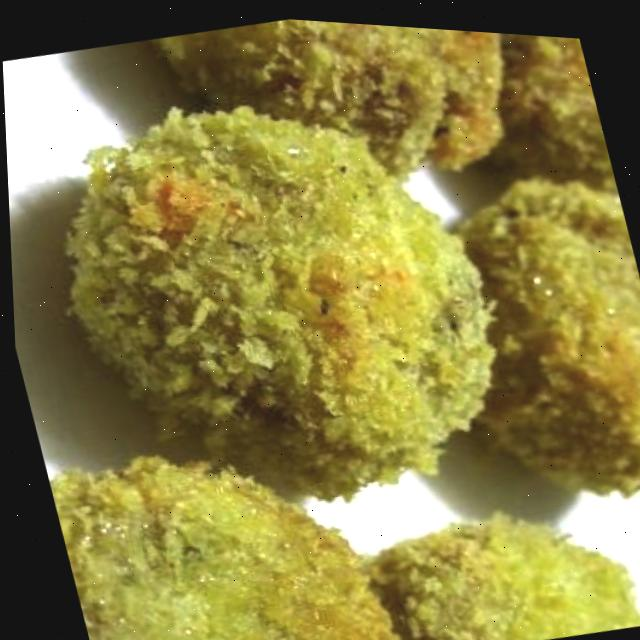炸货点心: (2, 37, 559, 576)
